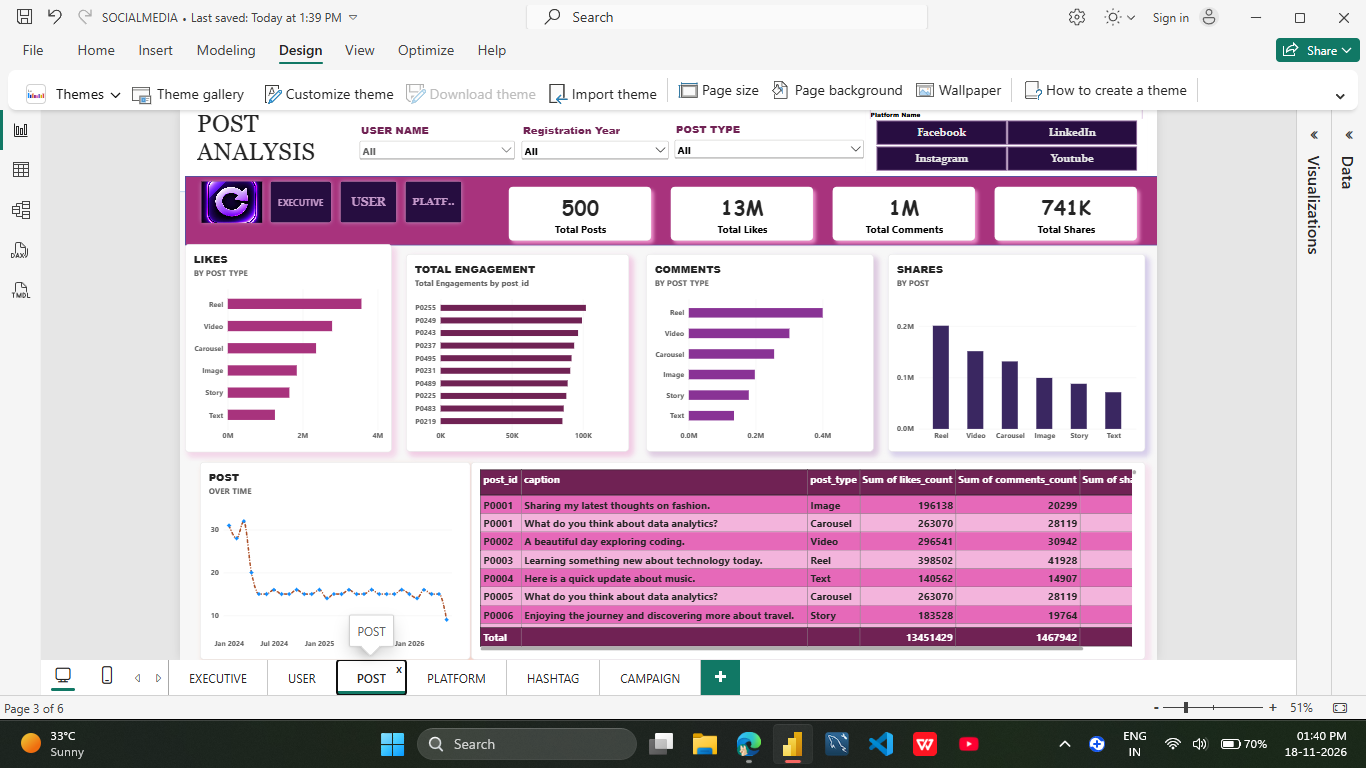

What the dashboard file says about the page in this screenshot:
{"tool":"powerbi","page":{"name":"POST","canvas":[1920,1080],"ordinal":2},"visuals":[{"type":"group","id":"g1","title":"Group 1","box":[-2.1,-5.7,1922.2,271.4],"z":0},{"type":"shape","box":[-2.1,-5.7,1922.2,167.4],"z":0,"group":"g1"},{"type":"shape","box":[8.9,129.5,1911.1,136.2],"z":1000,"group":"g1"},{"type":"cardVisual","fields":{"Data":["social_media posts.Total Posts","social_media likes.Total Likes","social_media comments.Total Comments","social_media posts.Total Shares"]},"box":[629.6,136.2,1265.9,136.2],"z":1000},{"type":"clusteredBarChart","title":"LIKES","fields":{"Category":["social_media posts.post_type"],"Y":["Sum(social_media posts.likes_count)"]},"box":[8.9,263.4,406.3,408.6],"z":2000},{"type":"clusteredBarChart","title":"COMMENTS","fields":{"Category":["social_media posts.post_type"],"Y":["Sum(social_media posts.comments_count)"]},"box":[915.3,283.5,446.5,388.5],"z":3000},{"type":"clusteredColumnChart","title":"SHARES","fields":{"Category":["social_media posts.post_type"],"Y":["Sum(social_media posts.shares_count)"]},"box":[1390.9,283.5,504.6,388.5],"z":4000},{"type":"lineChart","title":"POST","fields":{"Category":["social_media posts.posted_at.Variation.Date Hierarchy.Year","social_media posts.posted_at.Variation.Date Hierarchy.Month"],"Y":["CountNonNull(social_media posts.post_id)"]},"box":[40.2,692.1,531.3,388.5],"z":5000},{"type":"clusteredBarChart","title":"TOTAL ENGAGEMENT","fields":{"Category":["social_media posts.post_id"],"Y":["social_media adperformance.Total Engagements"]},"box":[444.3,283.5,437.6,388.5],"z":6000},{"type":"tableEx","fields":{"Values":["social_media comments.post_id","social_media posts.caption","social_media posts.post_type","Sum(social_media posts.likes_count)","Sum(social_media posts.comments_count)","Sum(social_media posts.shares_count)"]},"box":[571.5,692.1,1323.9,388.5],"z":7000},{"type":"slicer","fields":{"Values":["social_media platforms.platform_name"]},"box":[1346.2,0,551.4,120.6],"z":8000},{"type":"slicer","fields":{"Values":["social_media posts.post_type"]},"box":[965.4,24.2,381.8,96],"z":9000},{"type":"slicer","fields":{"Values":["social_media users.Registration Year"]},"box":[665.3,24.6,299.2,73.7],"z":10000},{"type":"slicer","fields":{"Values":["social_media users.user_name"]},"box":[348.3,24.6,314.8,73.7],"z":11000},{"type":"actionButton","box":[169.7,131.7,136.2,98.2],"z":12000},{"type":"actionButton","box":[305.9,131.7,127.3,98.2],"z":13000},{"type":"actionButton","box":[433.1,131.7,127.3,98.2],"z":14000},{"type":"actionButton","box":[33.5,131.7,136.2,98.2],"z":15000},{"type":"textbox","box":[33.5,0,464.4,120.6],"z":16000}]}

Visuals, with their boxes on the page's 1920x1080 design canvas (x1, y1, x2, y2). These are canvas units, not pixel positions in the 1366x768 screenshot, which may show the page scaled, cropped or inside an application window:
"Group 1" group: box=[-2, -6, 1920, 266]
shape: box=[-2, -6, 1920, 162]
shape: box=[9, 130, 1920, 266]
cardVisual - social_media posts.Total Posts x social_media likes.Total Likes: box=[630, 136, 1896, 272]
"LIKES" clusteredBarChart: box=[9, 263, 415, 672]
"COMMENTS" clusteredBarChart: box=[915, 284, 1362, 672]
"SHARES" clusteredColumnChart: box=[1391, 284, 1896, 672]
"POST" lineChart: box=[40, 692, 572, 1081]
"TOTAL ENGAGEMENT" clusteredBarChart: box=[444, 284, 882, 672]
tableEx - social_media comments.post_id x social_media posts.caption: box=[572, 692, 1895, 1081]
slicer - social_media platforms.platform_name: box=[1346, 0, 1898, 121]
slicer - social_media posts.post_type: box=[965, 24, 1347, 120]
slicer - social_media users.Registration Year: box=[665, 25, 964, 98]
slicer - social_media users.user_name: box=[348, 25, 663, 98]
actionButton: box=[170, 132, 306, 230]
actionButton: box=[306, 132, 433, 230]
actionButton: box=[433, 132, 560, 230]
actionButton: box=[34, 132, 170, 230]
textbox: box=[34, 0, 498, 121]
